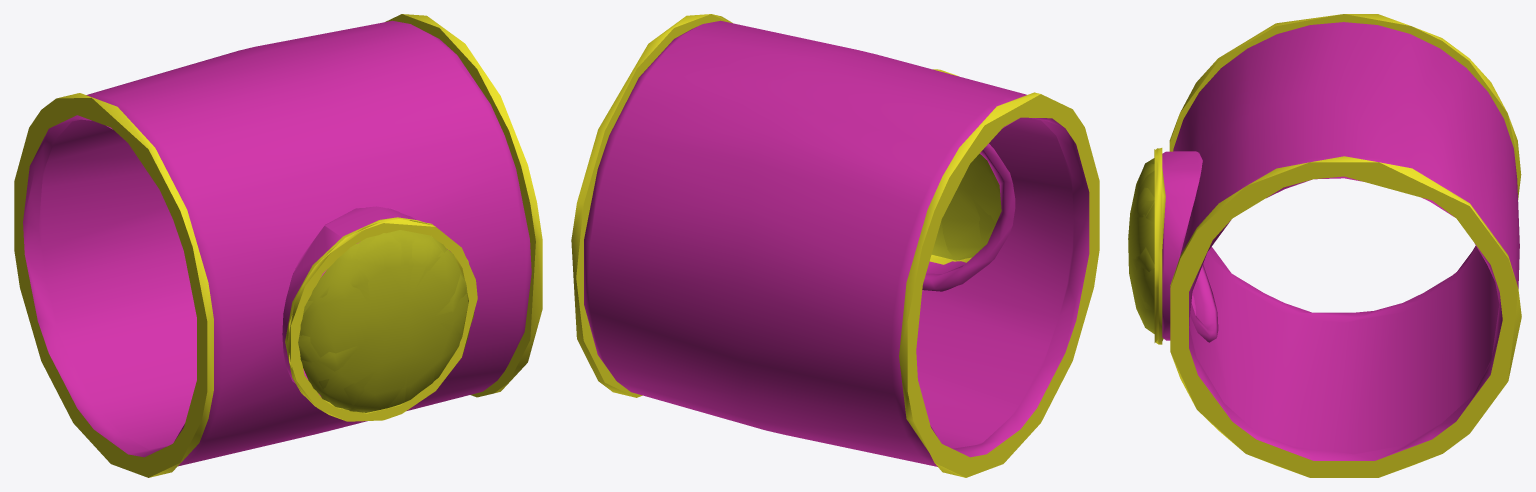
File: tubo2_LOD1.fbx
The picture shows the model from 3 angles, left to right: view 1: azimuth 30°, elevation 25°; view 2: azimuth 150°, elevation 25°; view 3: azimuth 270°, elevation 25°; orthographic projection. The views are drawn at different scales.
Visible parts, largest first — view 1: tubo2; view 2: tubo2; view 3: tubo2.
Boxes of the visible parts, <box> form: tubo2: <box>14,14,542,477</box>; tubo2: <box>571,14,1099,477</box>; tubo2: <box>1128,14,1521,477</box>.
Size of the model in its own units: 403 by 408 by 451.
